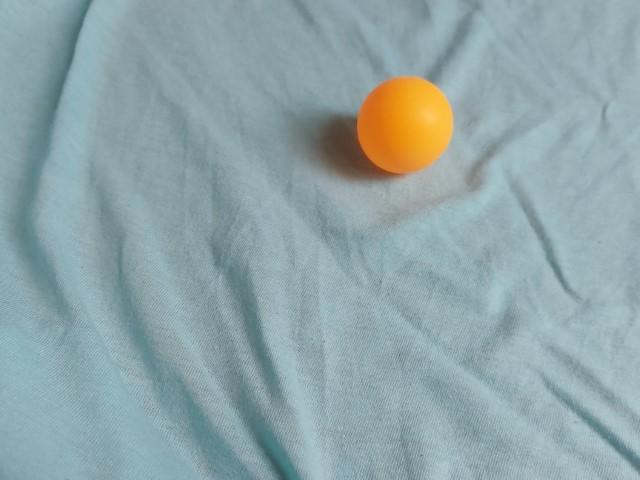oball: (349, 70, 460, 185)
